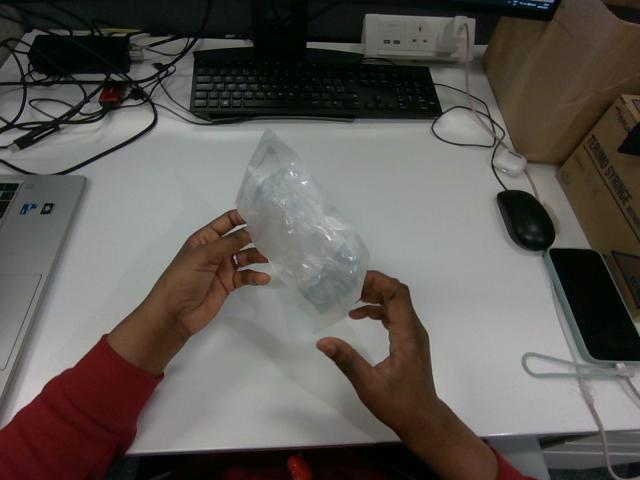gallipot: (237, 129, 368, 329)
